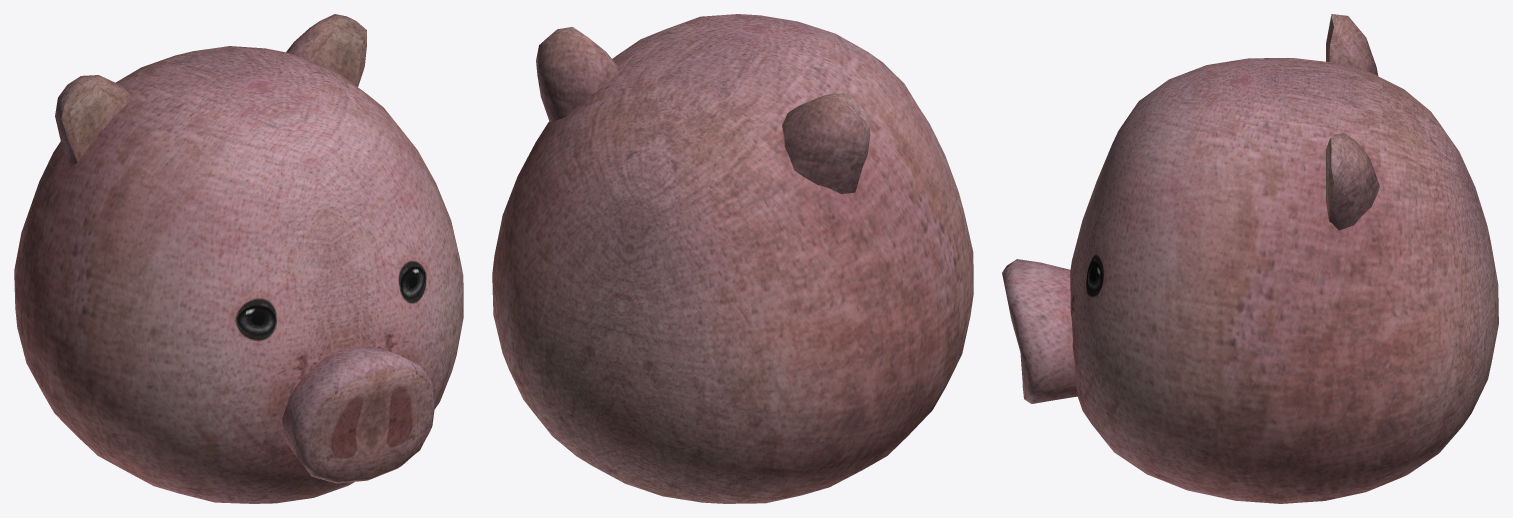
The model's file is CRT0110023.FBX.
3 renders of one model, left to right at view 1: azimuth 30°, elevation 25°; view 2: azimuth 150°, elevation 25°; view 3: azimuth 270°, elevation 25°, orthographic. The views are drawn at different scales.
Visible parts, largest first — view 1: smCRT0110023; view 2: smCRT0110023; view 3: smCRT0110023.
Boxes of the visible parts, x1,y1,x2,y2 form: smCRT0110023: (14, 14, 463, 503); smCRT0110023: (492, 14, 973, 503); smCRT0110023: (1002, 14, 1498, 503).
Bounding box in the file's own units: 0.1582 × 0.1591 × 0.1783.
1 material, 1 textured.
